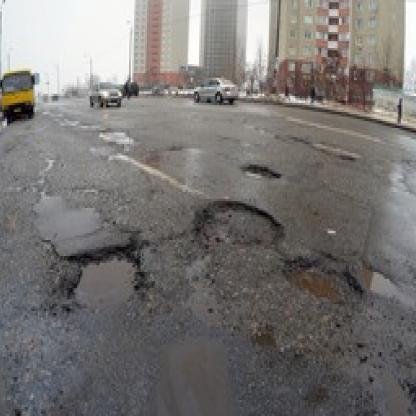pothole: (66, 245, 146, 313), (198, 199, 281, 254), (279, 254, 360, 304), (357, 361, 416, 416), (352, 254, 396, 302), (241, 162, 279, 181)
